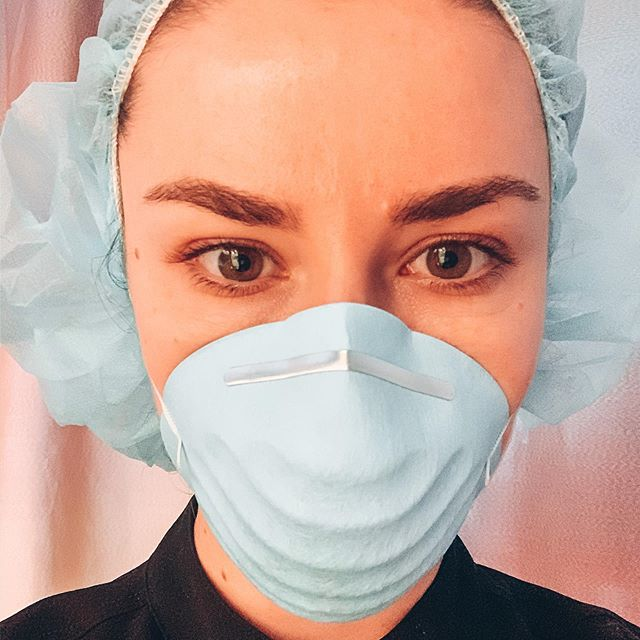n95: (137, 295, 524, 623)
